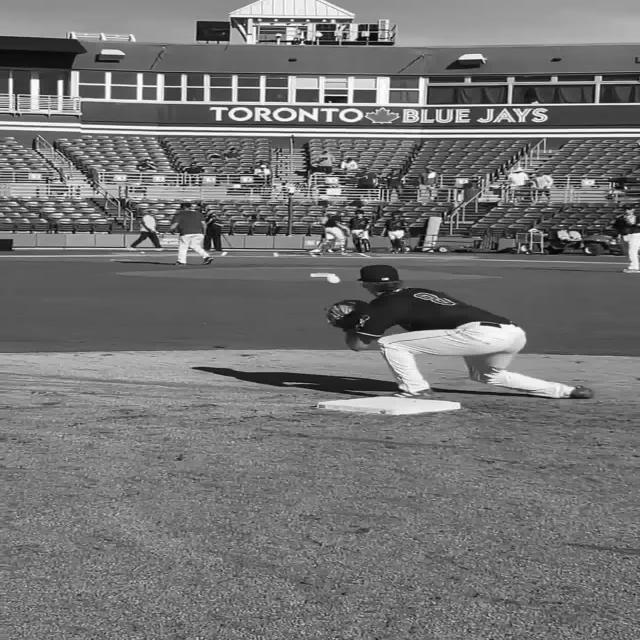base: (314, 398, 468, 413)
baseball: (326, 276, 340, 284)
baseball_glove: (324, 301, 360, 329)
shoe: (392, 388, 438, 398), (568, 386, 593, 398), (202, 256, 214, 264), (622, 268, 640, 273), (174, 261, 187, 265), (126, 246, 134, 250)
